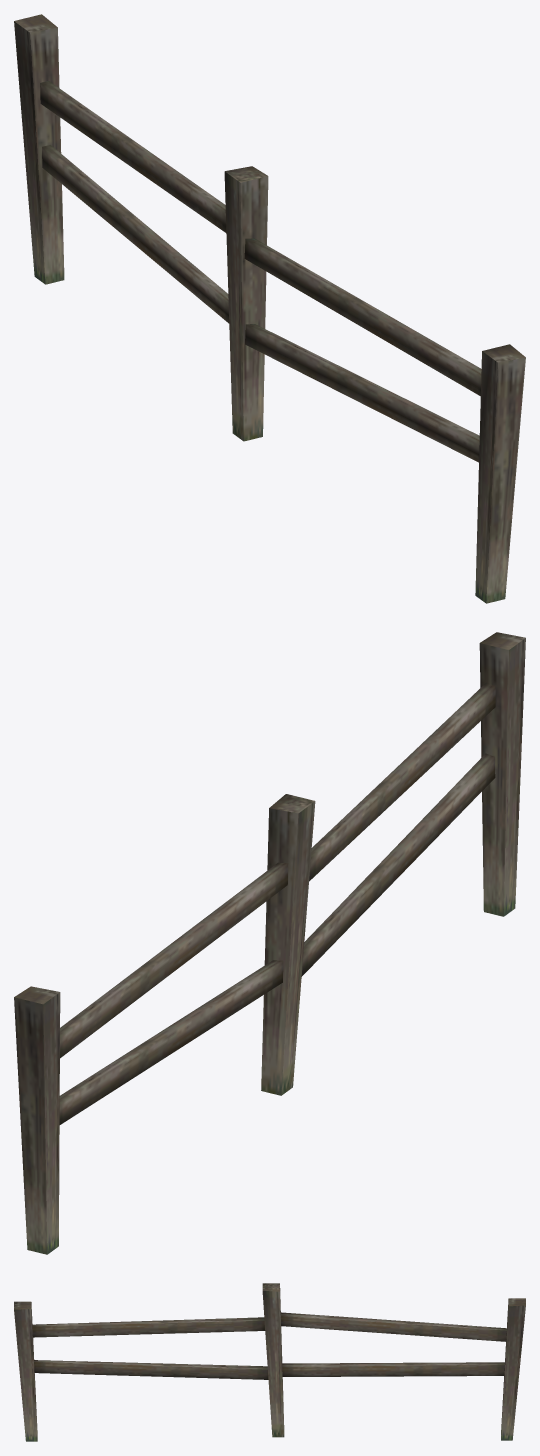
File: OZ_26_kn_fence01D.glb
3 views of the same model, one above another, from view 1: azimuth 30°, elevation 25°; view 2: azimuth 150°, elevation 25°; view 3: azimuth 270°, elevation 25° (orthographic). The views are drawn at different scales.
Parts seen in each view (by area): view 1: OM_26_kn_fence01D; view 2: OM_26_kn_fence01D; view 3: OM_26_kn_fence01D.
Boxes of the visible parts, <box> form: OM_26_kn_fence01D: <box>14,14,525,603</box>; OM_26_kn_fence01D: <box>14,632,525,1254</box>; OM_26_kn_fence01D: <box>14,1283,525,1441</box>.
Size of the model in its own units: 0.286 by 1.29 by 4.12.
1 material, 1 textured.
